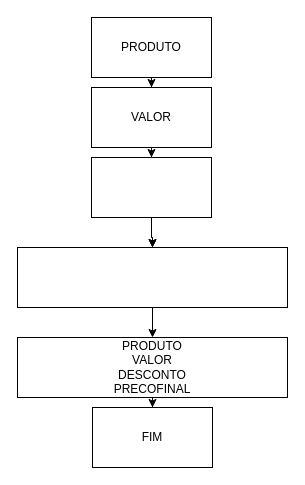
Image size: 305x485. Some labels were removed from this diagram. The centre of each missing label's shape, as x and y in pixels:
DESCONTO: point (151, 187)
PREÇO FINAL = VALOR - DESCONTO: point (152, 277)
